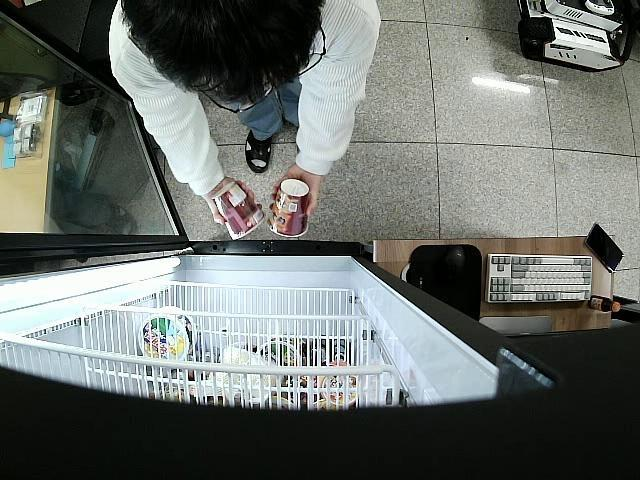06_nuguri_S: (209, 182, 264, 240), (268, 180, 310, 237)
